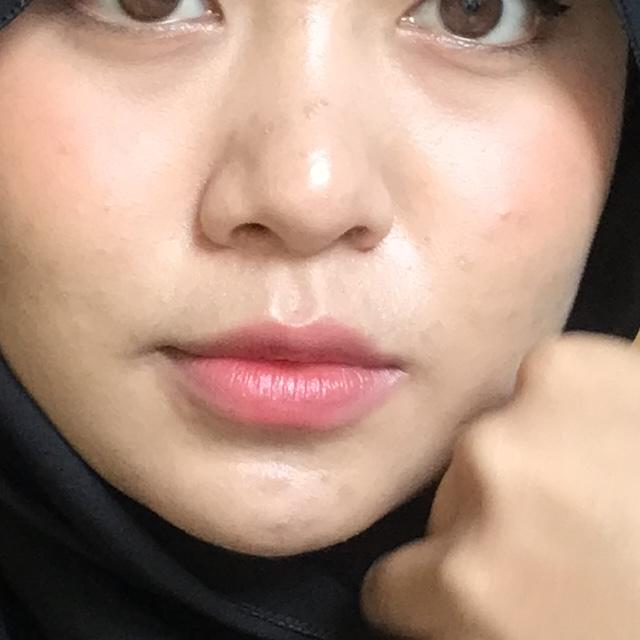telpon: (170, 76, 640, 640)
